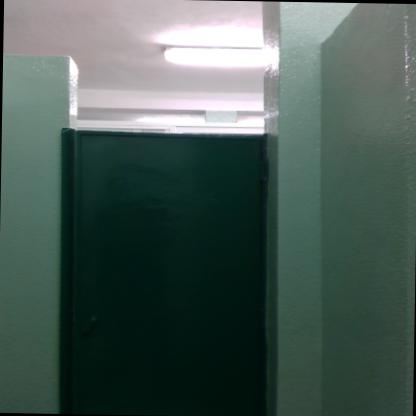closed: (42, 90, 298, 411)
